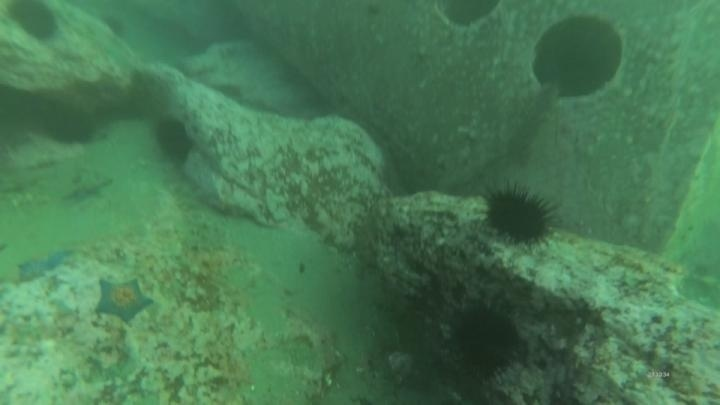echinus: (447, 299, 525, 381), (481, 182, 559, 250), (40, 104, 99, 149), (5, 1, 62, 45), (155, 109, 199, 158), (100, 13, 130, 41)
holothurian: (516, 80, 560, 165)
starfish: (92, 275, 155, 325), (14, 245, 75, 283), (60, 171, 115, 207)
